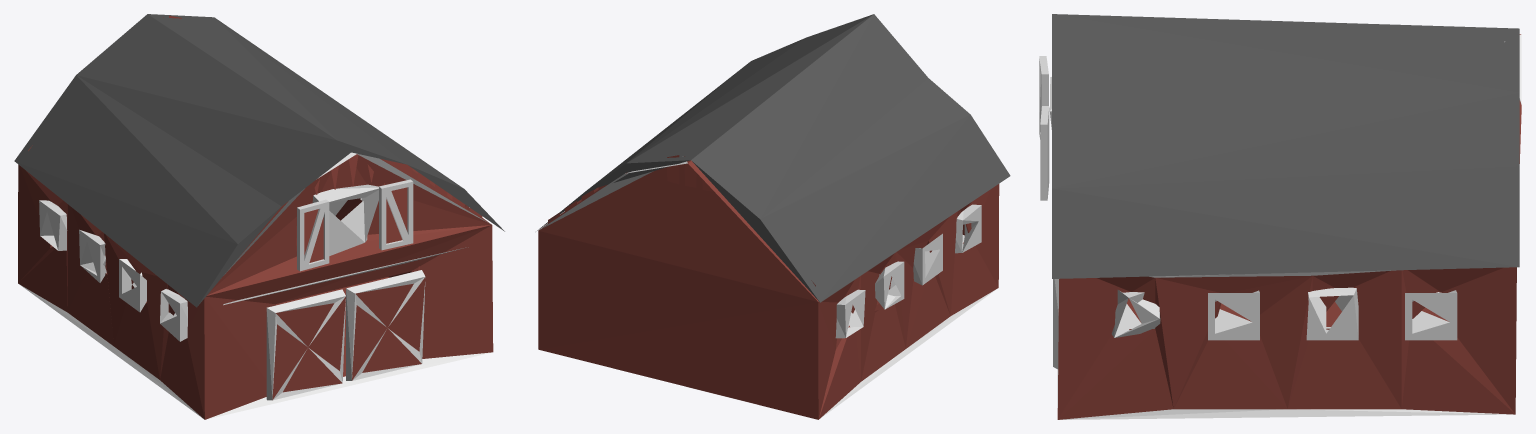
File: Barn.lod2.glb
3 views of the same model, side by side, from view 1: azimuth 30°, elevation 25°; view 2: azimuth 150°, elevation 25°; view 3: azimuth 270°, elevation 25° (orthographic). The views are drawn at different scales.
Parts seen in each view (by area): view 1: Barn, Barn_Door2, Barn_Door, Barn_Window, Barn_Window2; view 2: Barn; view 3: Barn, Barn_Window, Barn_Window2, Barn_Door.
Boxes of the visible parts, x1,y1,x2,y2 form: Barn: (14, 14, 504, 419); Barn_Door2: (266, 289, 345, 400); Barn_Door: (346, 270, 425, 380); Barn_Window: (379, 179, 413, 250); Barn_Window2: (297, 199, 329, 271); Barn: (537, 14, 1010, 419); Barn: (1049, 14, 1521, 419); Barn_Window: (1040, 106, 1049, 200); Barn_Window2: (1039, 56, 1048, 139); Barn_Door: (1053, 279, 1058, 369).
Size of the model in its own units: 7.5 by 5.84 by 8.22.
